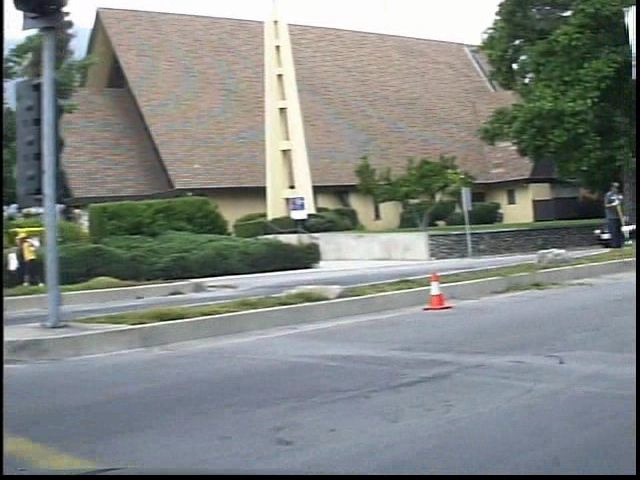person: (27, 225, 58, 290)
